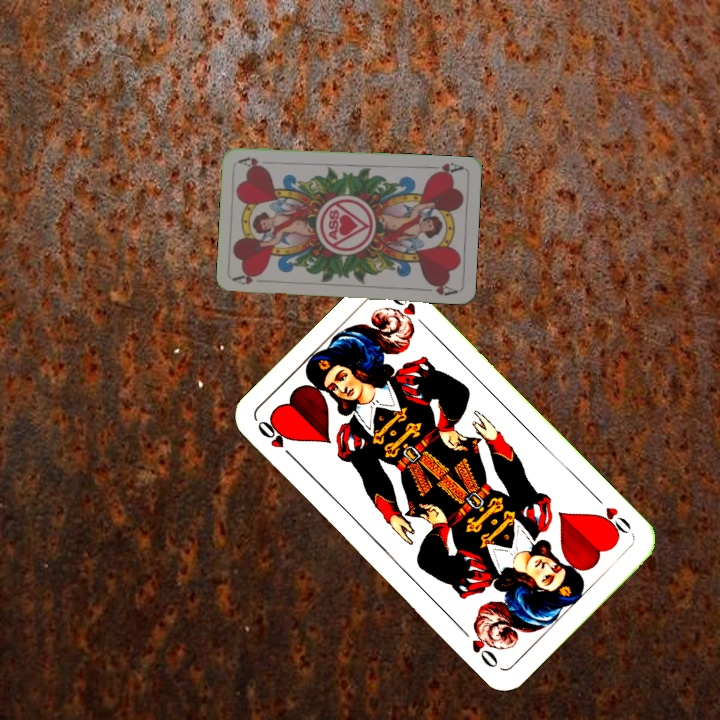HA: (425, 159, 465, 178), (231, 270, 264, 287)
HO: (253, 415, 299, 463), (590, 491, 634, 540)
